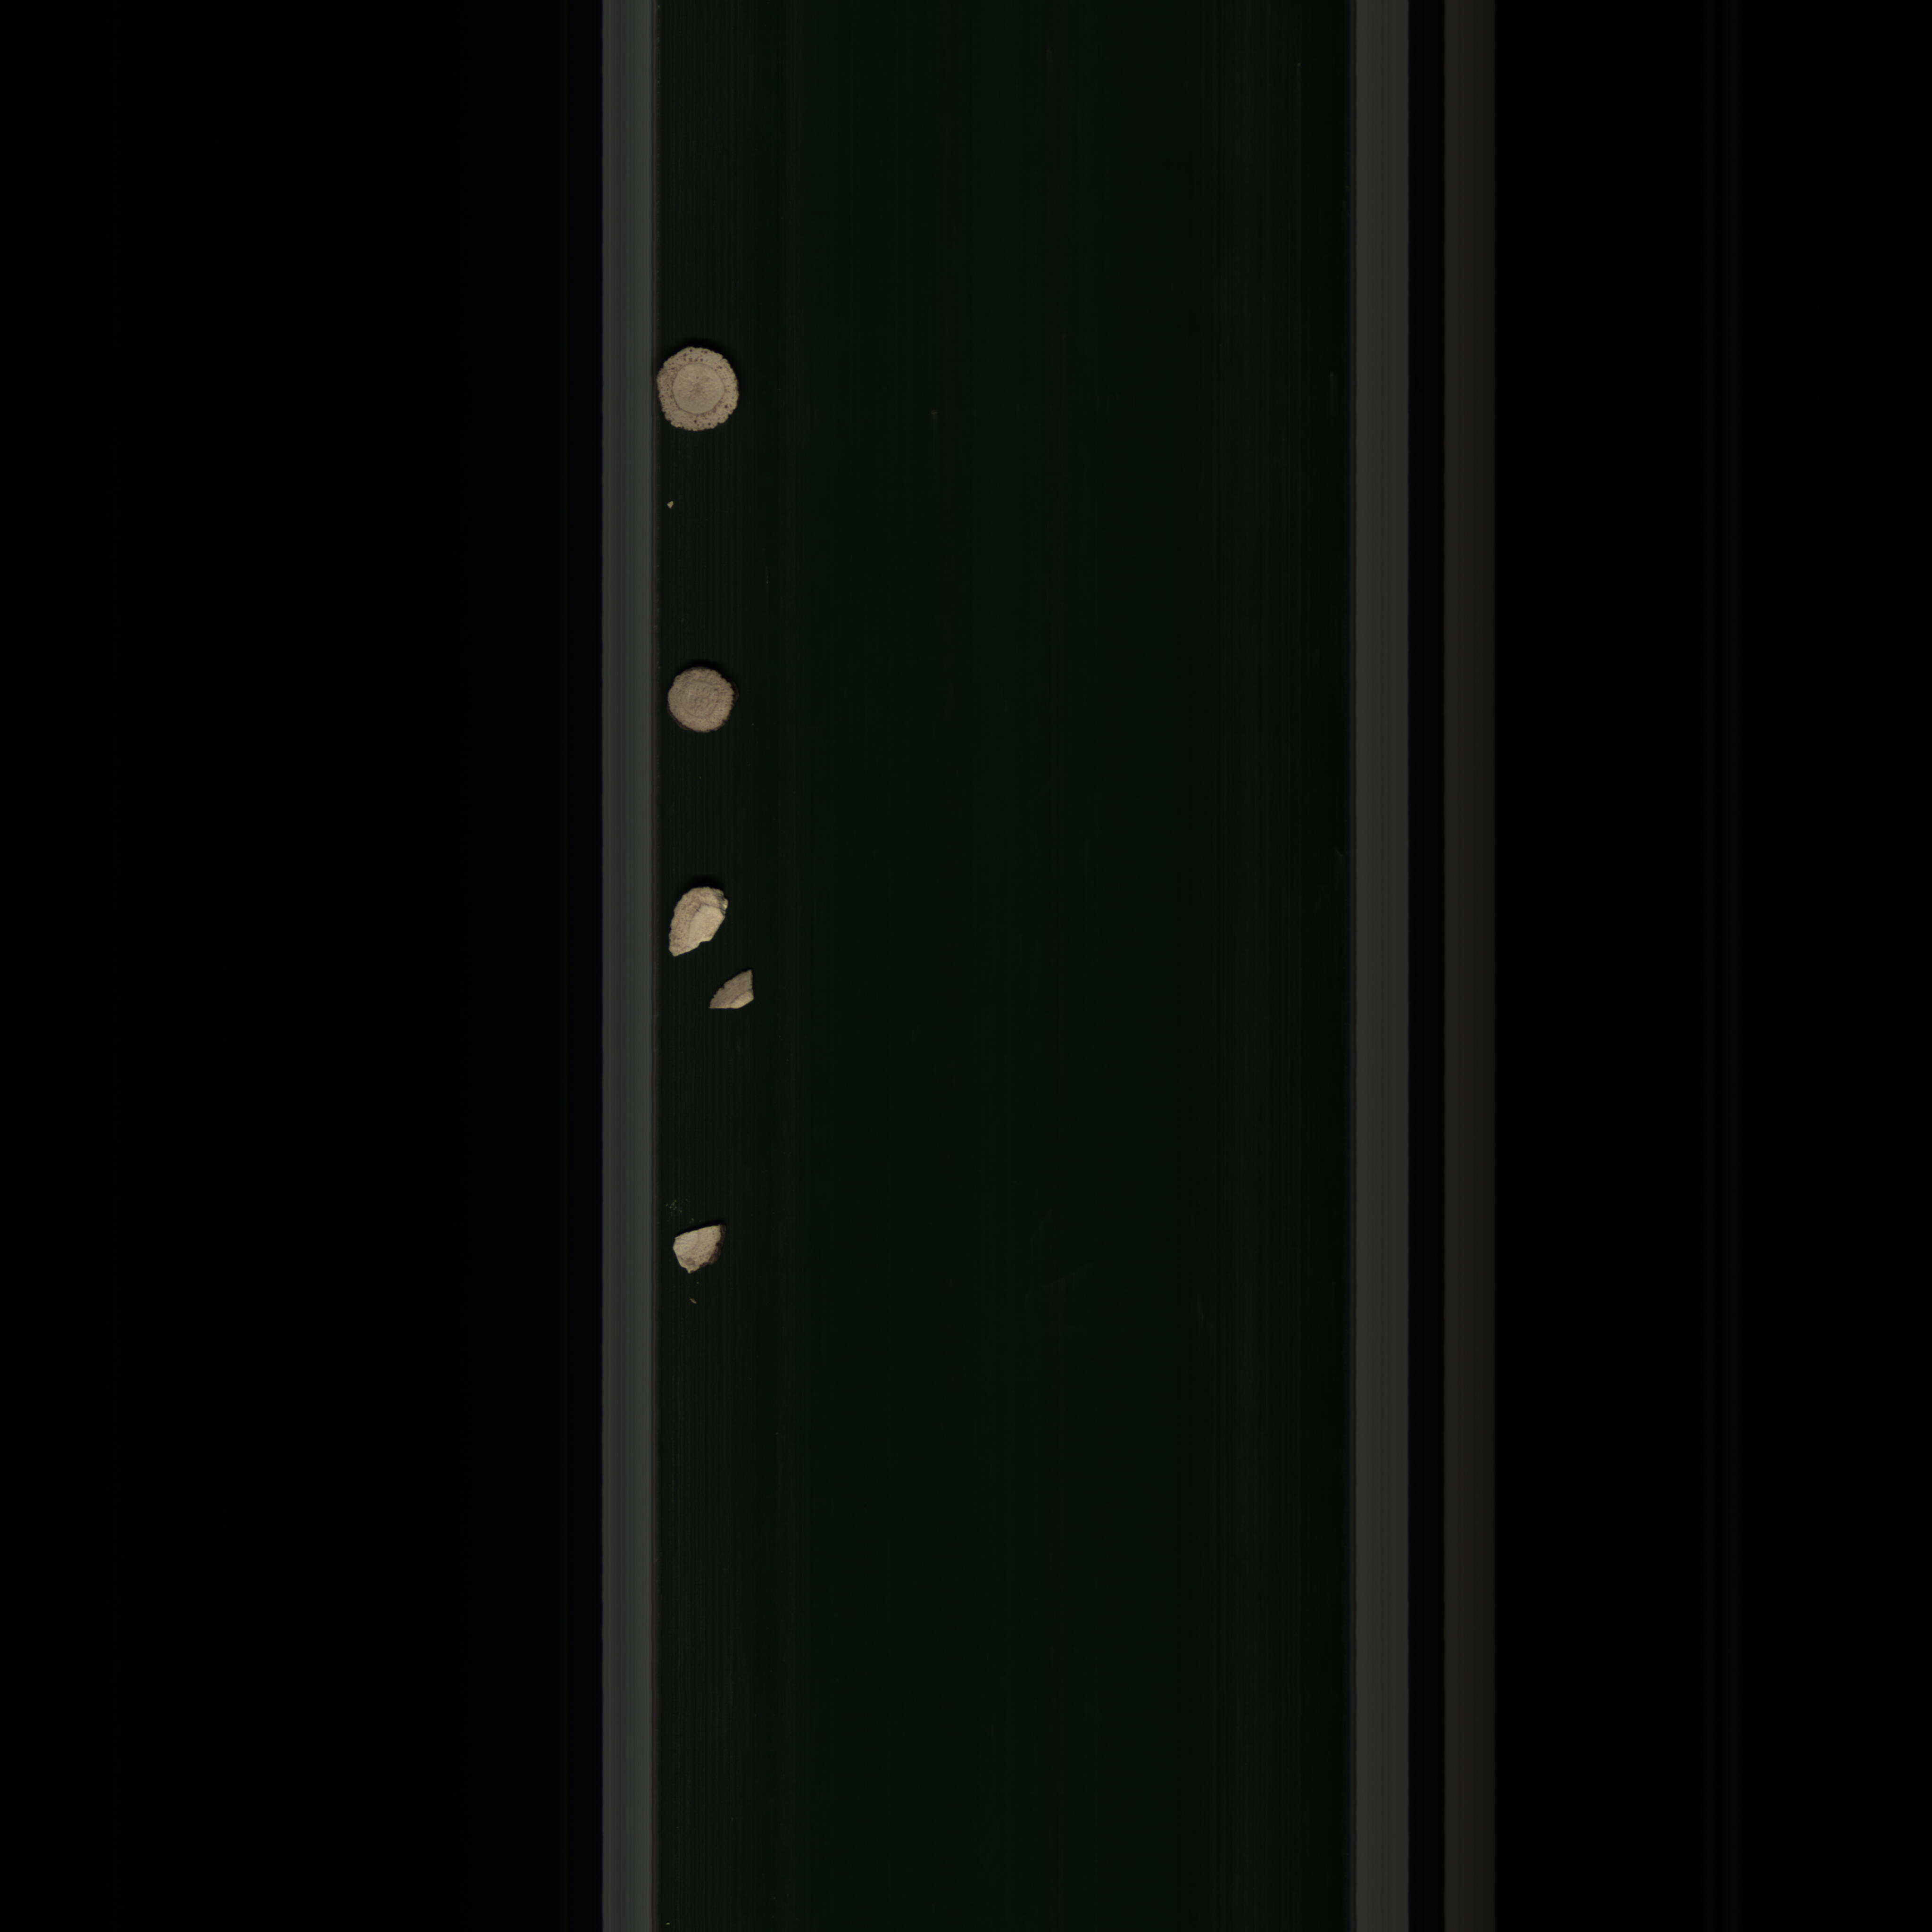debris: (662, 876, 736, 968), (667, 1215, 743, 1283), (708, 961, 763, 1026)
